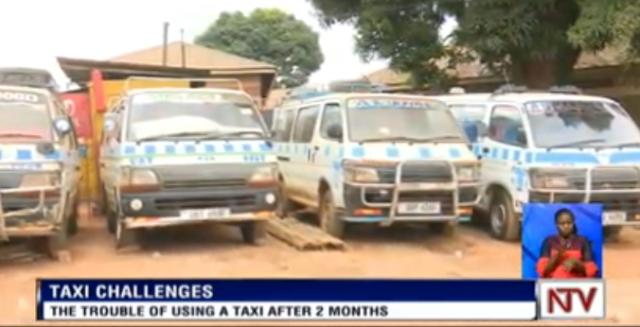van: (97, 87, 280, 247), (282, 93, 478, 241), (480, 83, 639, 204), (0, 84, 80, 257)
